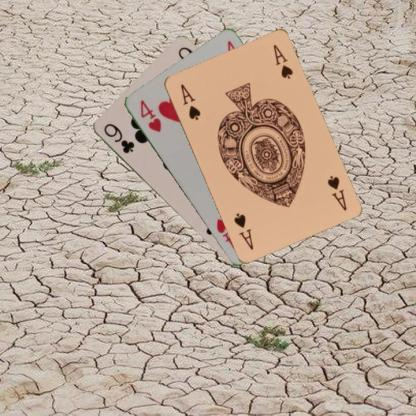4h: (136, 96, 162, 134)
9c: (100, 121, 136, 155)
As: (177, 81, 202, 122), (324, 173, 348, 212)
